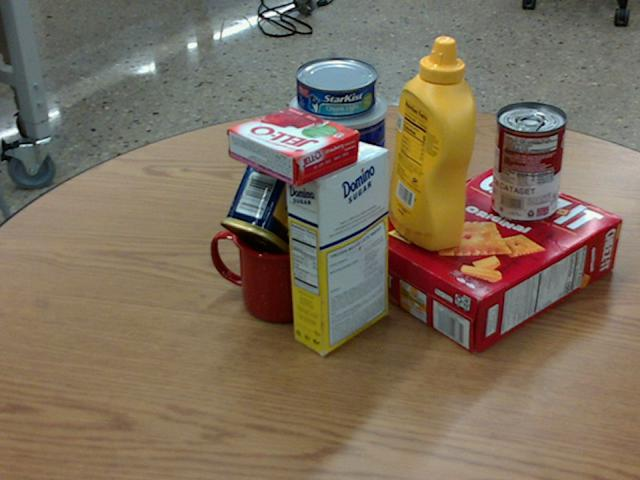cracker_box: (357, 163, 620, 353)
gelatin_box: (226, 105, 359, 186)
large_marker: (418, 117, 438, 219)
master_chef_can: (291, 84, 388, 239)
mug: (208, 205, 325, 321)
mustard_bottle: (388, 35, 475, 250)
potted_meat_can: (219, 140, 331, 264)
sugar_box: (283, 140, 387, 354)
tomato_soup_can: (491, 100, 566, 221)
tuna_fish_can: (295, 57, 377, 117)
